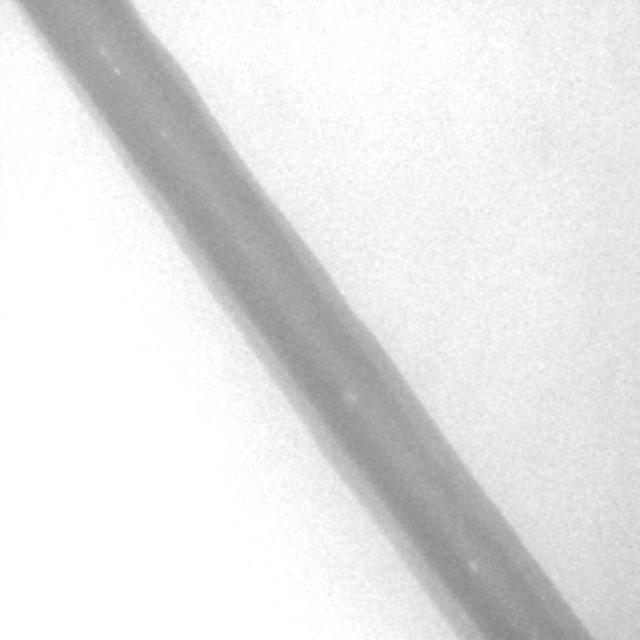air hole: (467, 558, 481, 576)
